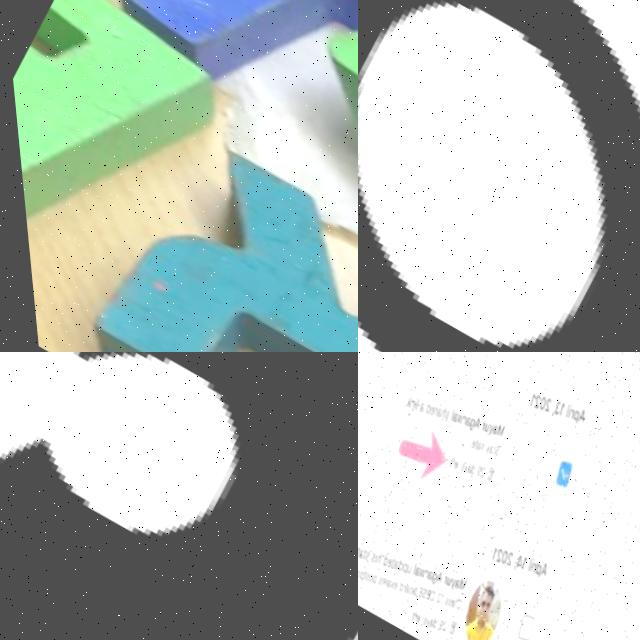0: (527, 396, 543, 414), (486, 550, 502, 568)
1: (518, 393, 533, 410), (477, 547, 491, 564), (548, 403, 562, 419), (507, 557, 521, 573)
2: (480, 548, 497, 566), (522, 394, 538, 412), (533, 398, 549, 415), (491, 551, 507, 568), (468, 467, 480, 481), (427, 620, 439, 634)
3: (541, 401, 558, 419)
4: (500, 554, 516, 573)
9: (423, 619, 436, 633), (464, 465, 476, 479)
C: (0, 352, 358, 640), (266, 0, 358, 308)
F: (0, 0, 244, 284)
K: (55, 113, 358, 352)
Q: (358, 0, 640, 352)
T: (57, 0, 358, 172)
